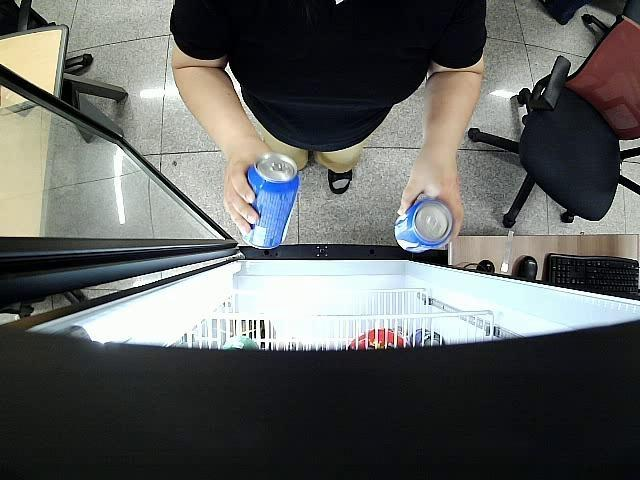13_pocariSweat: (238, 156, 300, 248), (394, 198, 455, 251)
